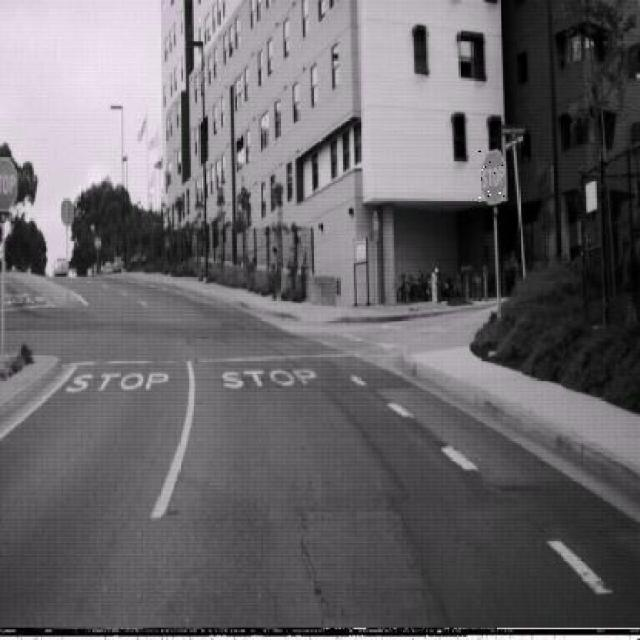stop: (478, 149, 508, 205)
